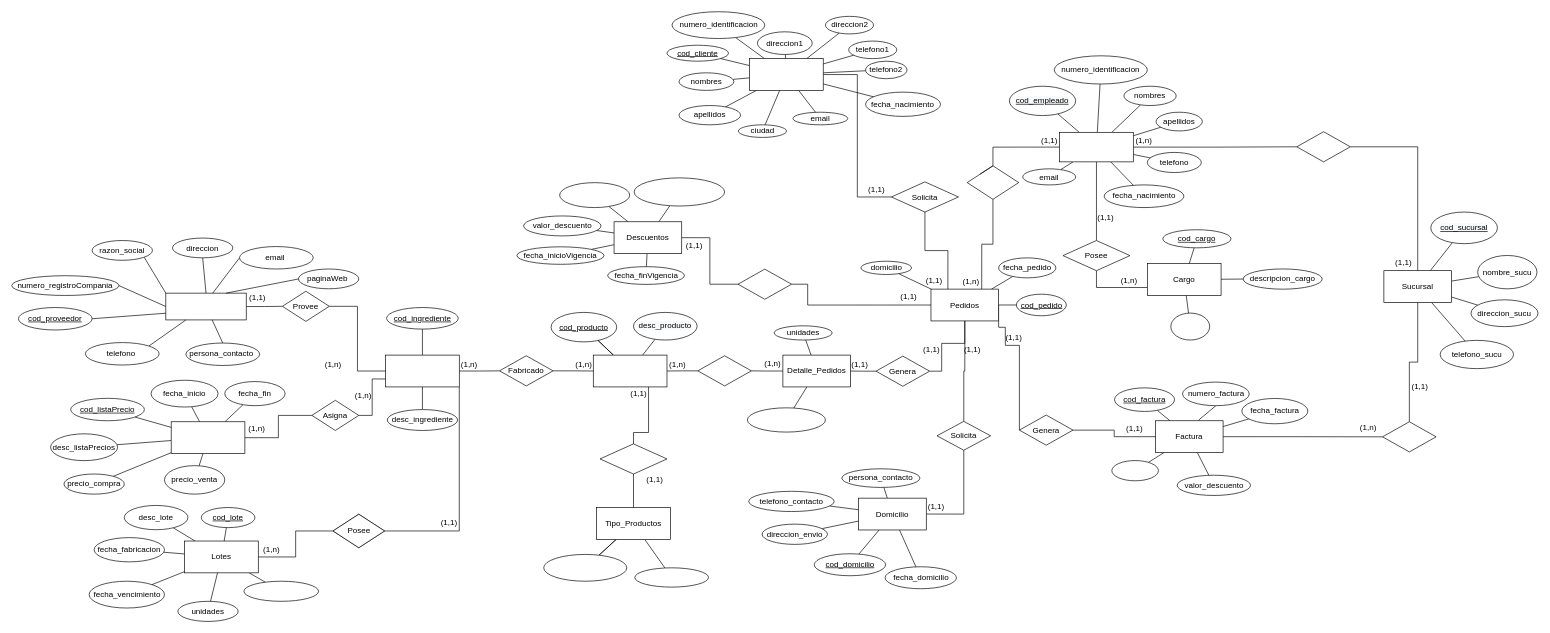
Some shapes in this 1550 by 633 pixel diagram are drawn without their labels. The box of each missing label's shape, as (x1, y1, x2, y2) in pixels:
Asociada: (1382, 421, 1436, 452)
Cliente: (749, 58, 823, 90)
cod_descuento: (559, 182, 630, 208)
cod_detallePedido: (747, 407, 825, 432)
cod_tipoProducto: (543, 554, 627, 581)
Crea: (966, 165, 1019, 199)
desc_tipoProducto: (634, 567, 709, 587)
descripcion_descuento: (633, 177, 725, 206)
Diferenciado: (599, 443, 667, 474)
Empleado: (1059, 132, 1133, 162)
Ingredientes: (385, 354, 459, 387)
Lista_Precios: (171, 421, 245, 454)
Posse: (737, 268, 792, 299)
Productos: (593, 354, 667, 387)
Proveedores: (165, 292, 246, 320)
registro_sanitario: (243, 581, 319, 601)
salario: (1170, 312, 1210, 340)
subtotal: (1111, 460, 1158, 481)
Trabaja: (1296, 131, 1350, 162)
Utiliza: (697, 355, 751, 386)
